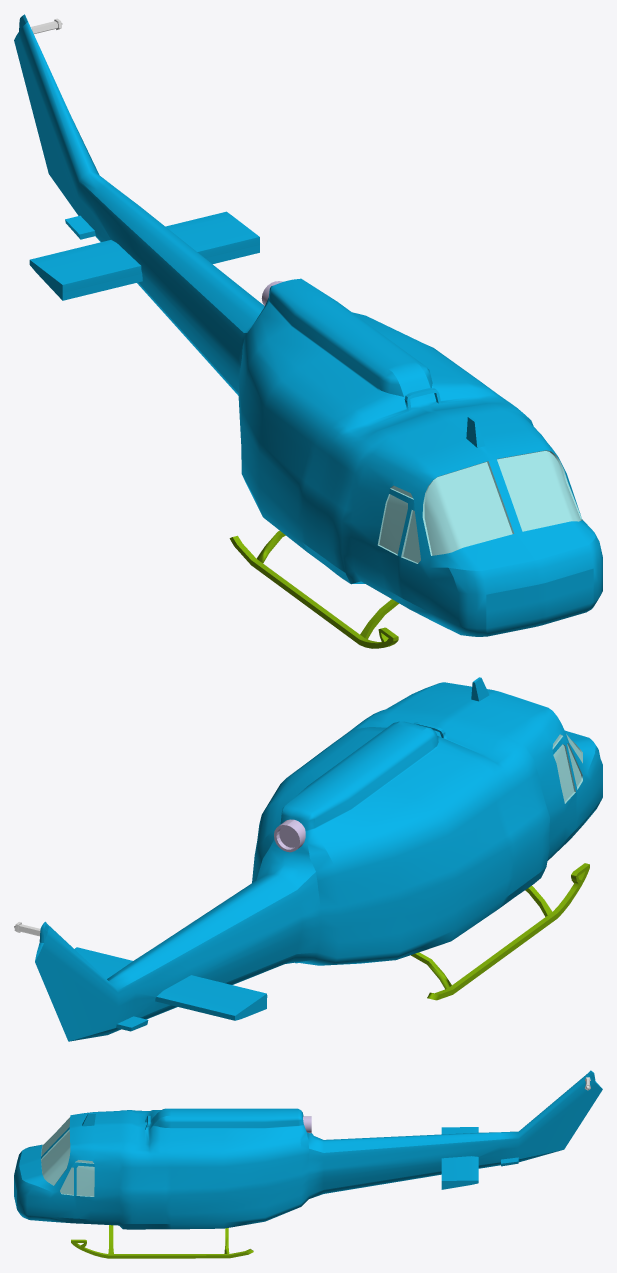
The model's file is cg_PlayerHelicopter_Body.fbx.
The picture shows the model from 3 angles, top to bottom: view 1: azimuth 30°, elevation 25°; view 2: azimuth 150°, elevation 25°; view 3: azimuth 270°, elevation 25°; orthographic projection. The views are drawn at different scales.
Visible parts, largest first — view 1: Body, Sled; view 2: Body, Sled, pCylinder12; view 3: Body, Sled.
Boxes of the visible parts, x1,y1,x2,y2 form: Body: [14, 14, 602, 636]; Sled: [229, 530, 398, 648]; Body: [35, 677, 602, 1041]; Sled: [411, 863, 589, 1000]; pCylinder12: [274, 819, 305, 852]; Body: [14, 1070, 602, 1229]; Sled: [71, 1225, 253, 1258].
Bounding box in the file's own units: 367 × 491 × 1621.
